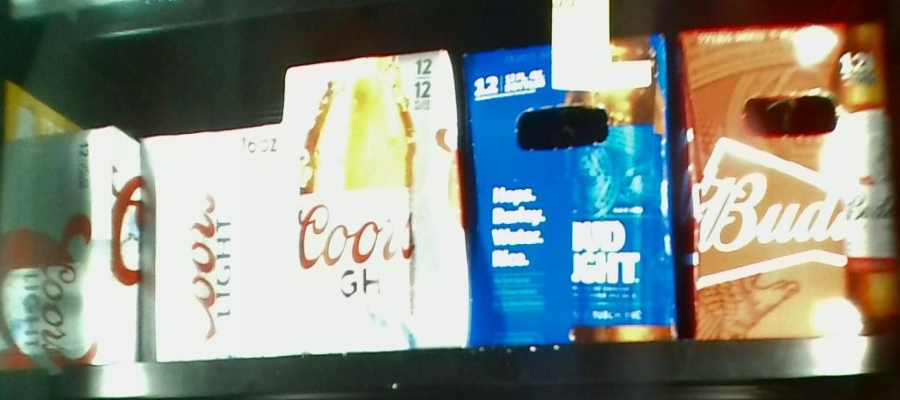bottle: (677, 27, 900, 341), (464, 45, 675, 343), (287, 51, 466, 348), (139, 127, 288, 363), (1, 131, 142, 363)
